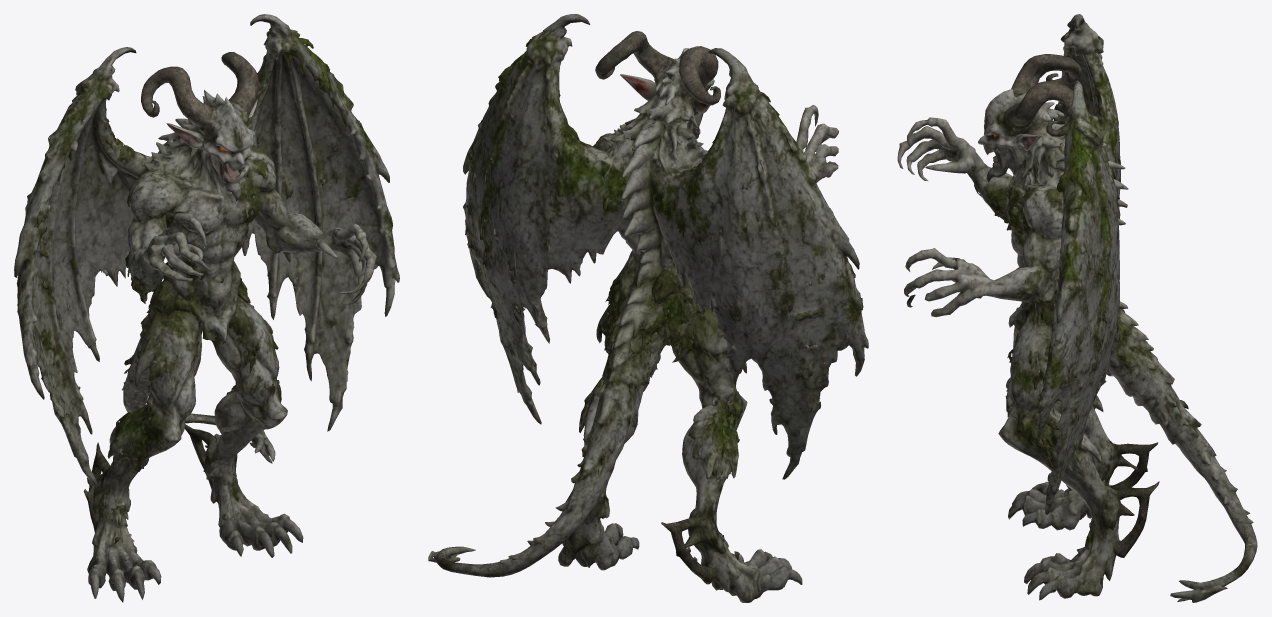
The model's file is горгулья-живая.glb.
3 renders of one model, left to right at view 1: azimuth 30°, elevation 25°; view 2: azimuth 150°, elevation 25°; view 3: azimuth 270°, elevation 25°, orthographic. The views are drawn at different scales.
Visible parts, largest first — view 1: geometry_0; view 2: geometry_0; view 3: geometry_0.
Boxes of the visible parts, bbox=[...] form: geometry_0: bbox=[14, 14, 399, 602]; geometry_0: bbox=[428, 14, 868, 602]; geometry_0: bbox=[897, 14, 1257, 602].
Size of the model in its own units: 0.7559 by 1 by 0.6369.
Materials: 1 (1 with a texture image).
